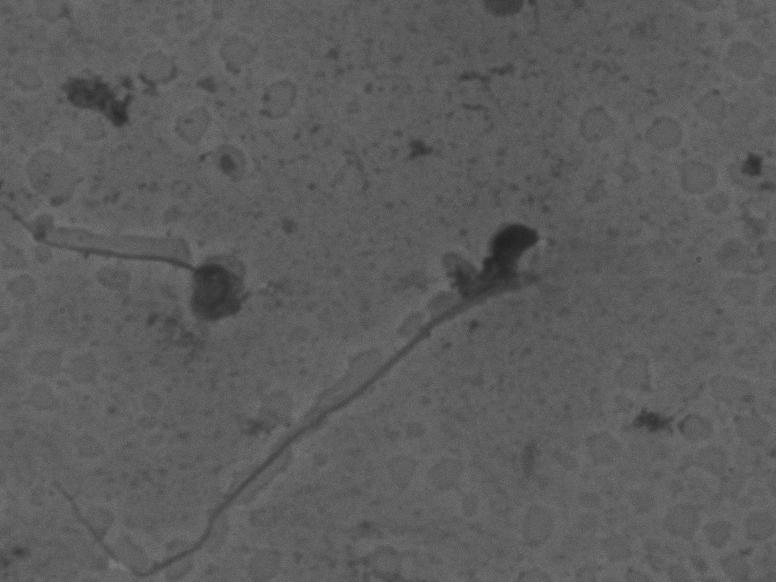Abnormal: (45, 198, 596, 578)
